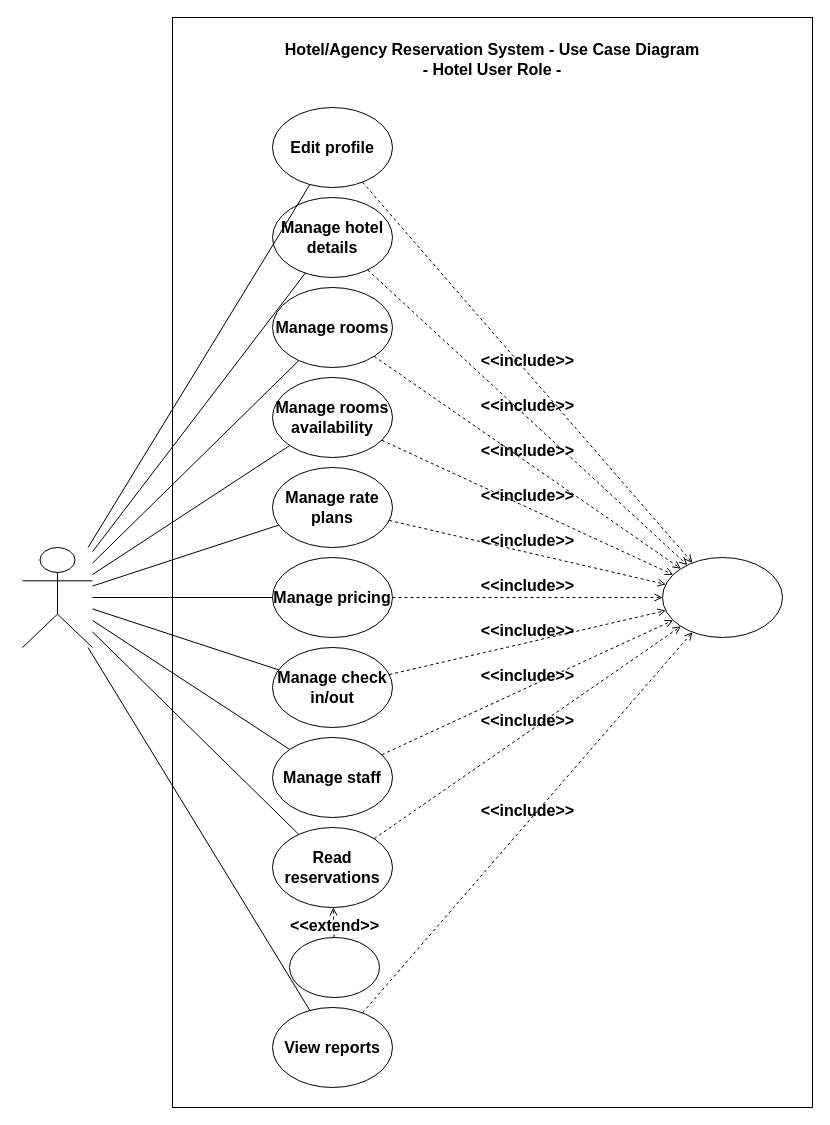
The diagram is 830 pixels wide and 1125 high, and some of its shapes have lost their labels. The centre of each missing label's shape, as x and y in pixels:
Authenticate: the point at 722,597
Hotel User: the point at 57,597
View vouchers: the point at 334,967
